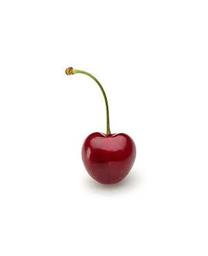cherry: (80, 132, 136, 185)
